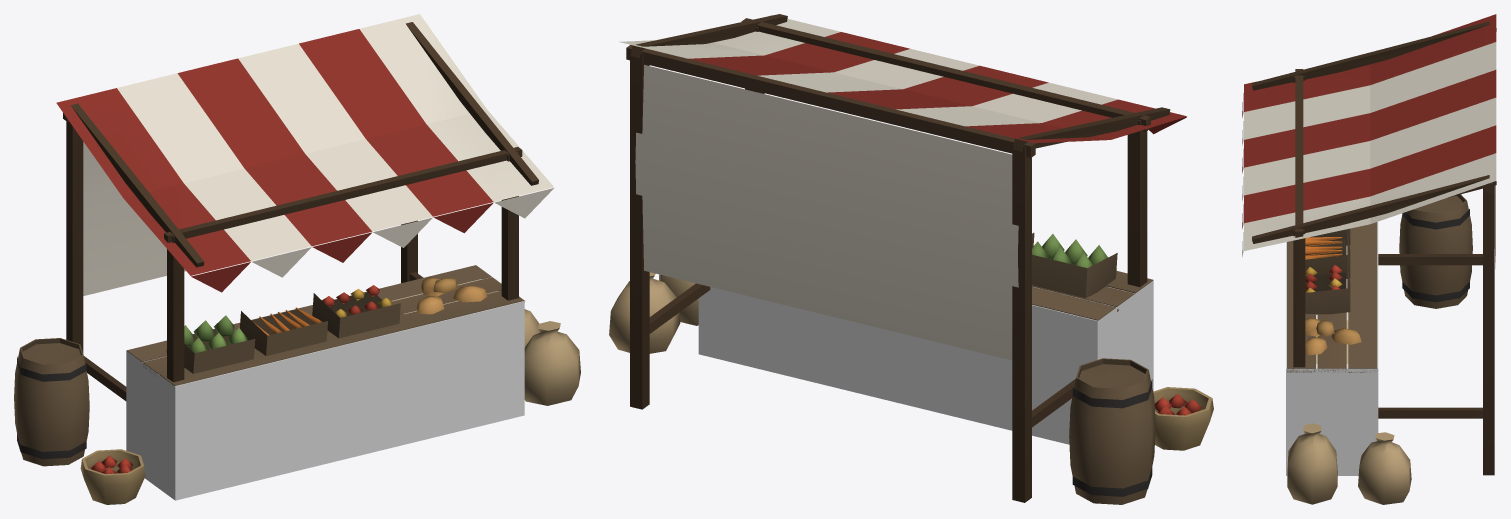
Rendered from market_stall_a.glb.
3 views of the same model, side by side, from view 1: azimuth 30°, elevation 25°; view 2: azimuth 150°, elevation 25°; view 3: azimuth 270°, elevation 25° (orthographic). The views are drawn at different scales.
Parts seen in each view (by area): view 1: market_stall_a, COL_counter; view 2: market_stall_a, COL_counter; view 3: market_stall_a, COL_counter.
Boxes of the visible parts, x1,y1,x2,y2 form: market_stall_a: (14,14,580,504); COL_counter: (126,277,524,500); market_stall_a: (609,14,1213,504); COL_counter: (698,280,1153,444); market_stall_a: (1242,14,1496,504); COL_counter: (1286,221,1378,475).
Size of the model in its own units: 4.1 by 2.5 by 1.94.
